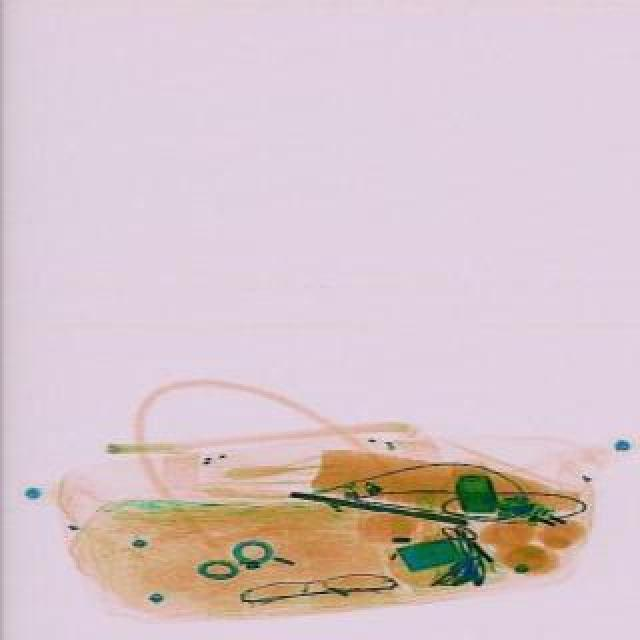pliers: (436, 514, 498, 570)
